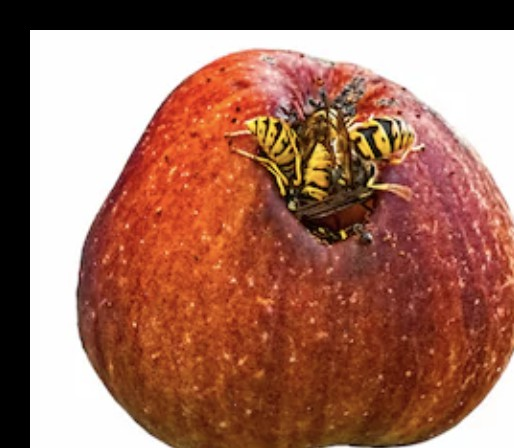rotten_apple: (75, 49, 514, 448)
